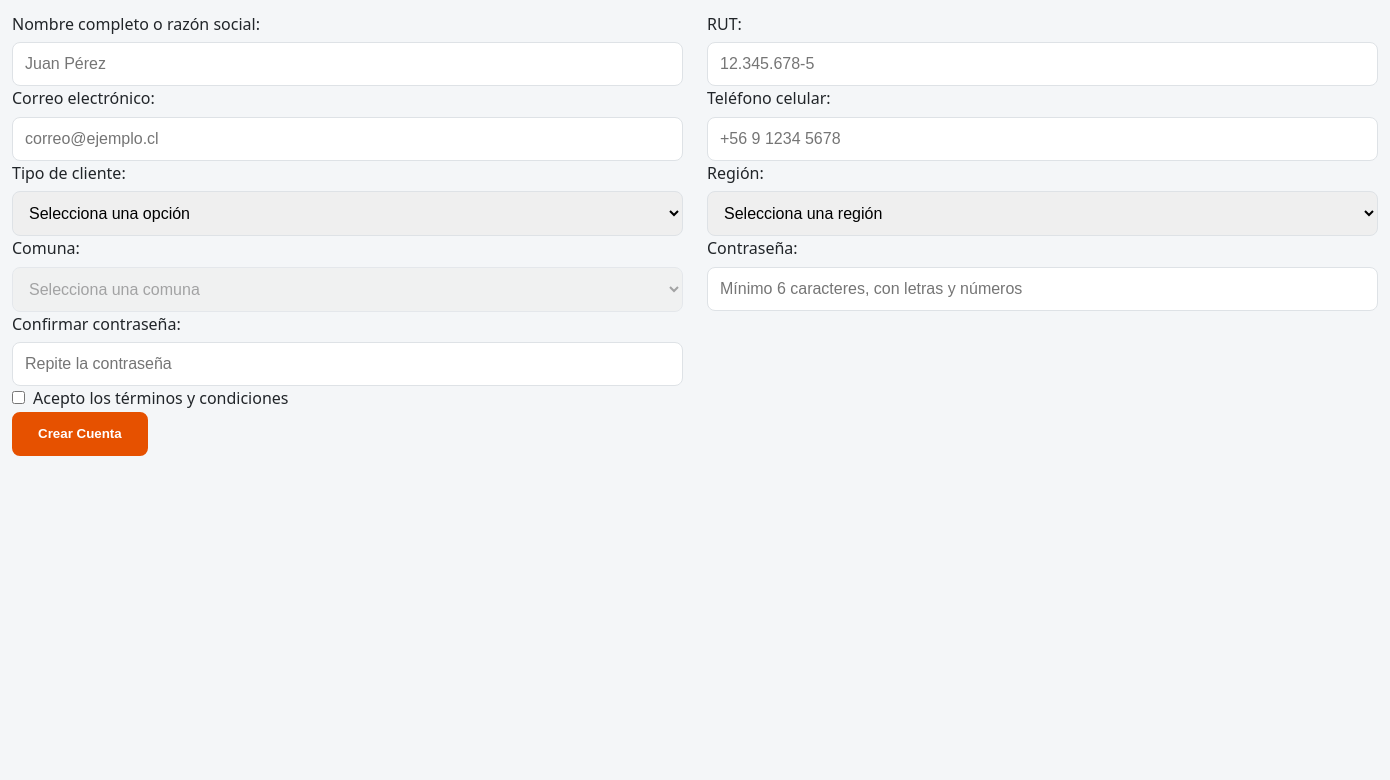
Test: FormularioRegistro › muestra errores y no registra cuando el formulario está vacío
The image size is (1390, 780).
Click the button "Crear Cuenta" at {"x": 80, "y": 434}, box x1=12 y1=412 x2=148 y2=456
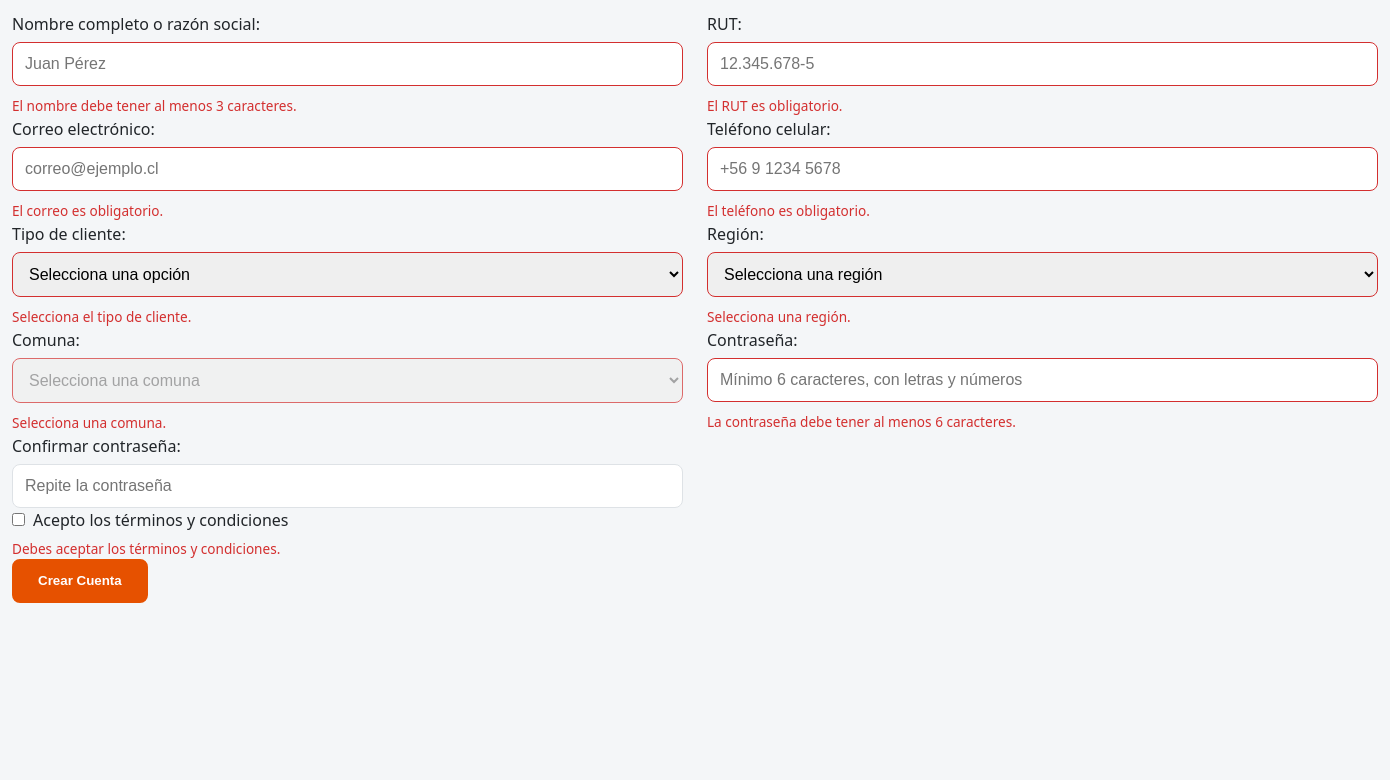
Expected: the text "El RUT es obligatorio." is shown, x1=707 y1=96 x2=842 y2=115
Expected: the text "Debes aceptar los términos y condiciones." is shown, x1=12 y1=539 x2=280 y2=558
